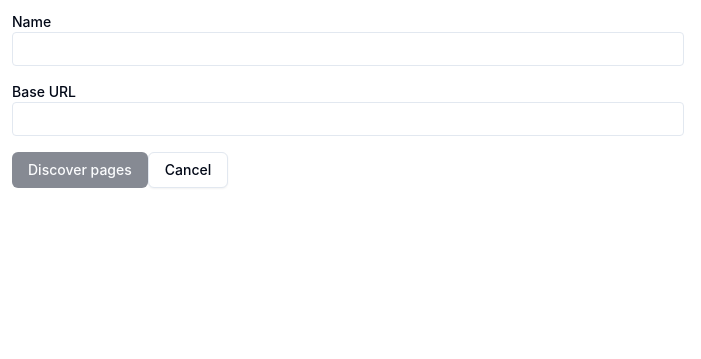
Test: SiteWizard › Save button disabled when 0 pages selected/added
This screenshot has width=701, height=359.
Type "X" into the field labelled "Name". click: (348,49)
box: 12,32 -> 684,66
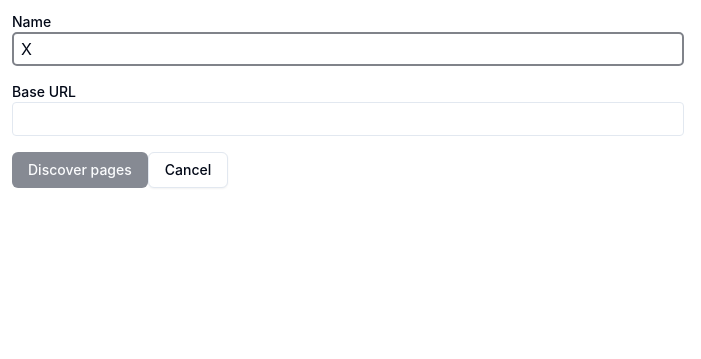
Type "https://x" into the field labelled "Base URL". click: (348,119)
box: 12,102 -> 684,136
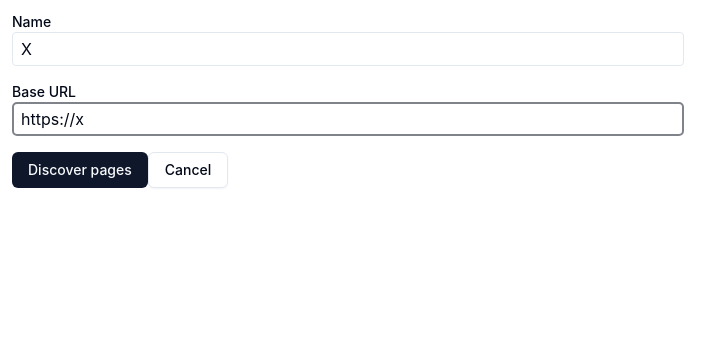
Click the button "Discover pages". click: (80,170)
box: 12,152 -> 148,188
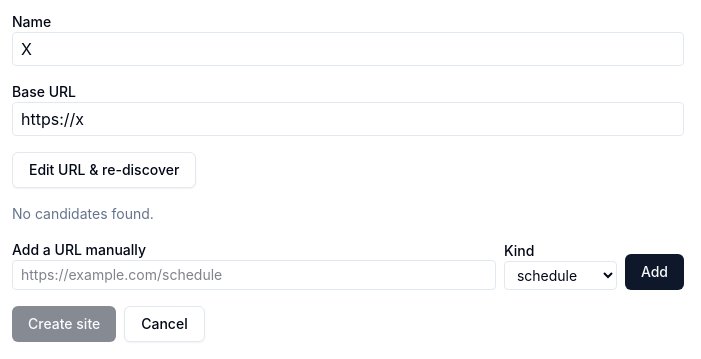
Now the text "No candidates found." is shown, box 12,205 -> 154,222
Now the button "Create site" is disabled, box 12,306 -> 116,342
